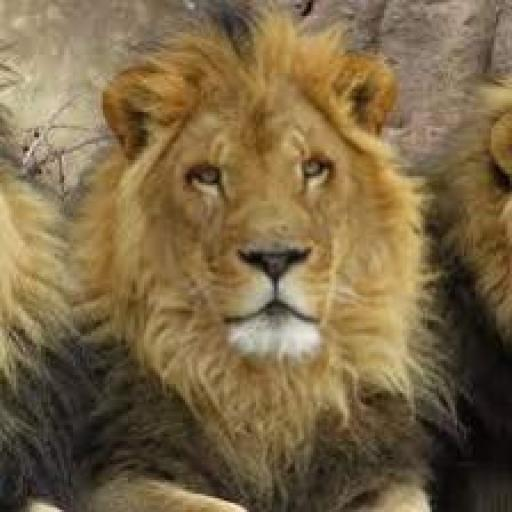lion: (71, 41, 378, 506)
